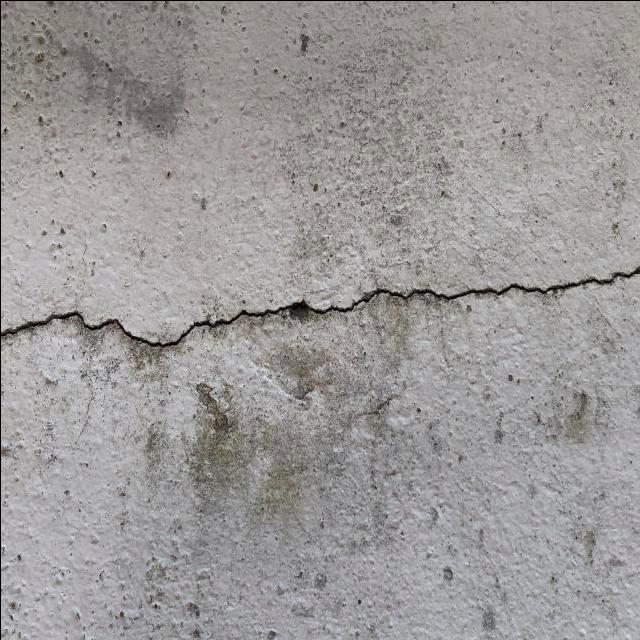SurfaceCrack: (2, 227, 640, 385)
